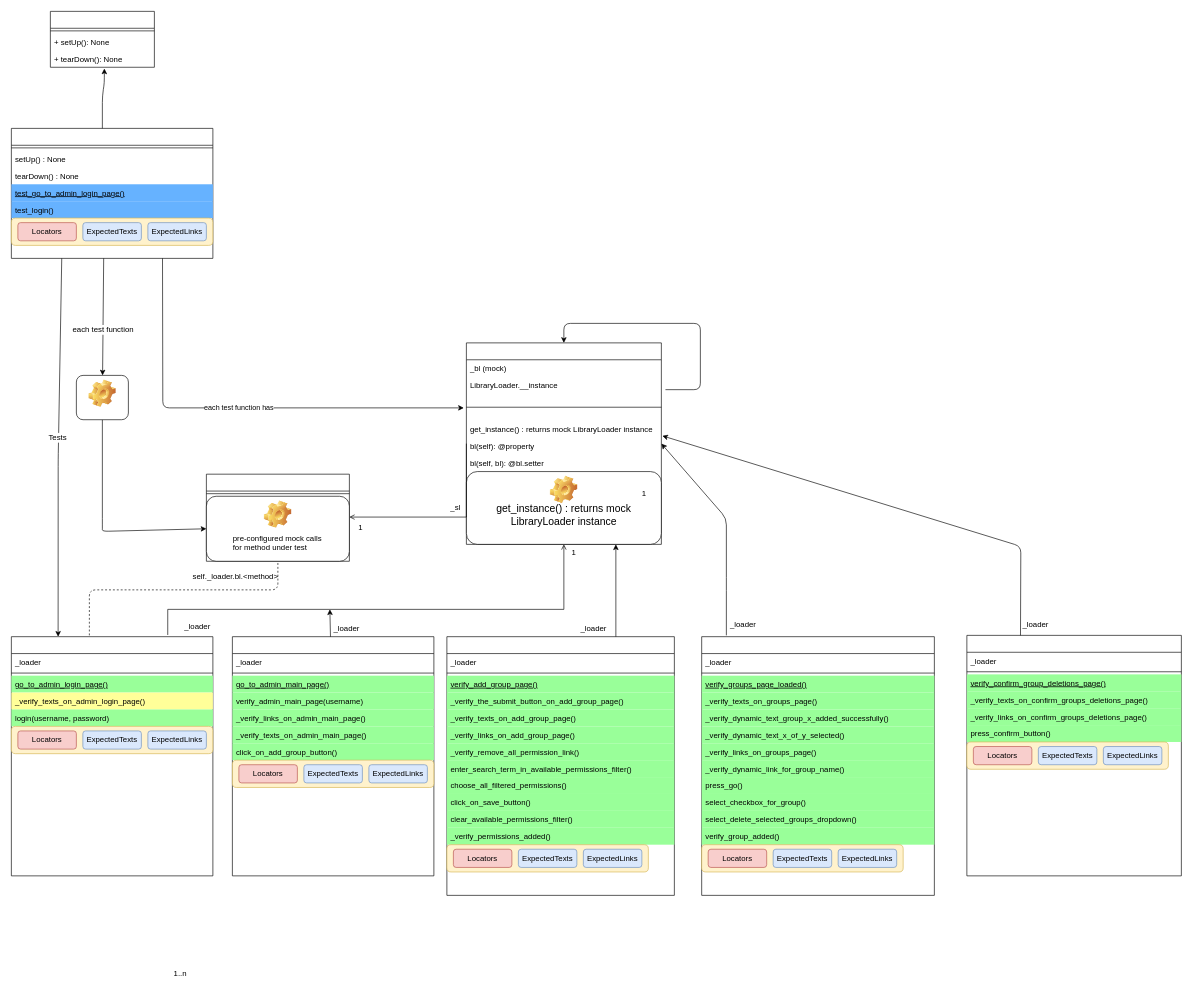
Some shapes in this 1193 by 991 pixel diagram are drawn without their labels. Each missing label, with the box of its shape:
AddGroupPage (CUT): (446, 636, 674, 895)
AdminLoginPage (CUT): (11, 636, 213, 876)
AdminLoginPageUT: (11, 128, 213, 258)
AdminMainPage (CUT): (232, 636, 434, 876)
bl (mock(strict=True)): (206, 474, 349, 561)
configures: (76, 375, 128, 420)
ConfirmGroupsDeletionsPage (CUT): (966, 635, 1181, 876)
GroupsPage (CUT): (701, 636, 934, 895)
LibraryLoader (singleton, mock): (466, 342, 661, 544)
unittest.TestCase: (50, 11, 154, 67)
